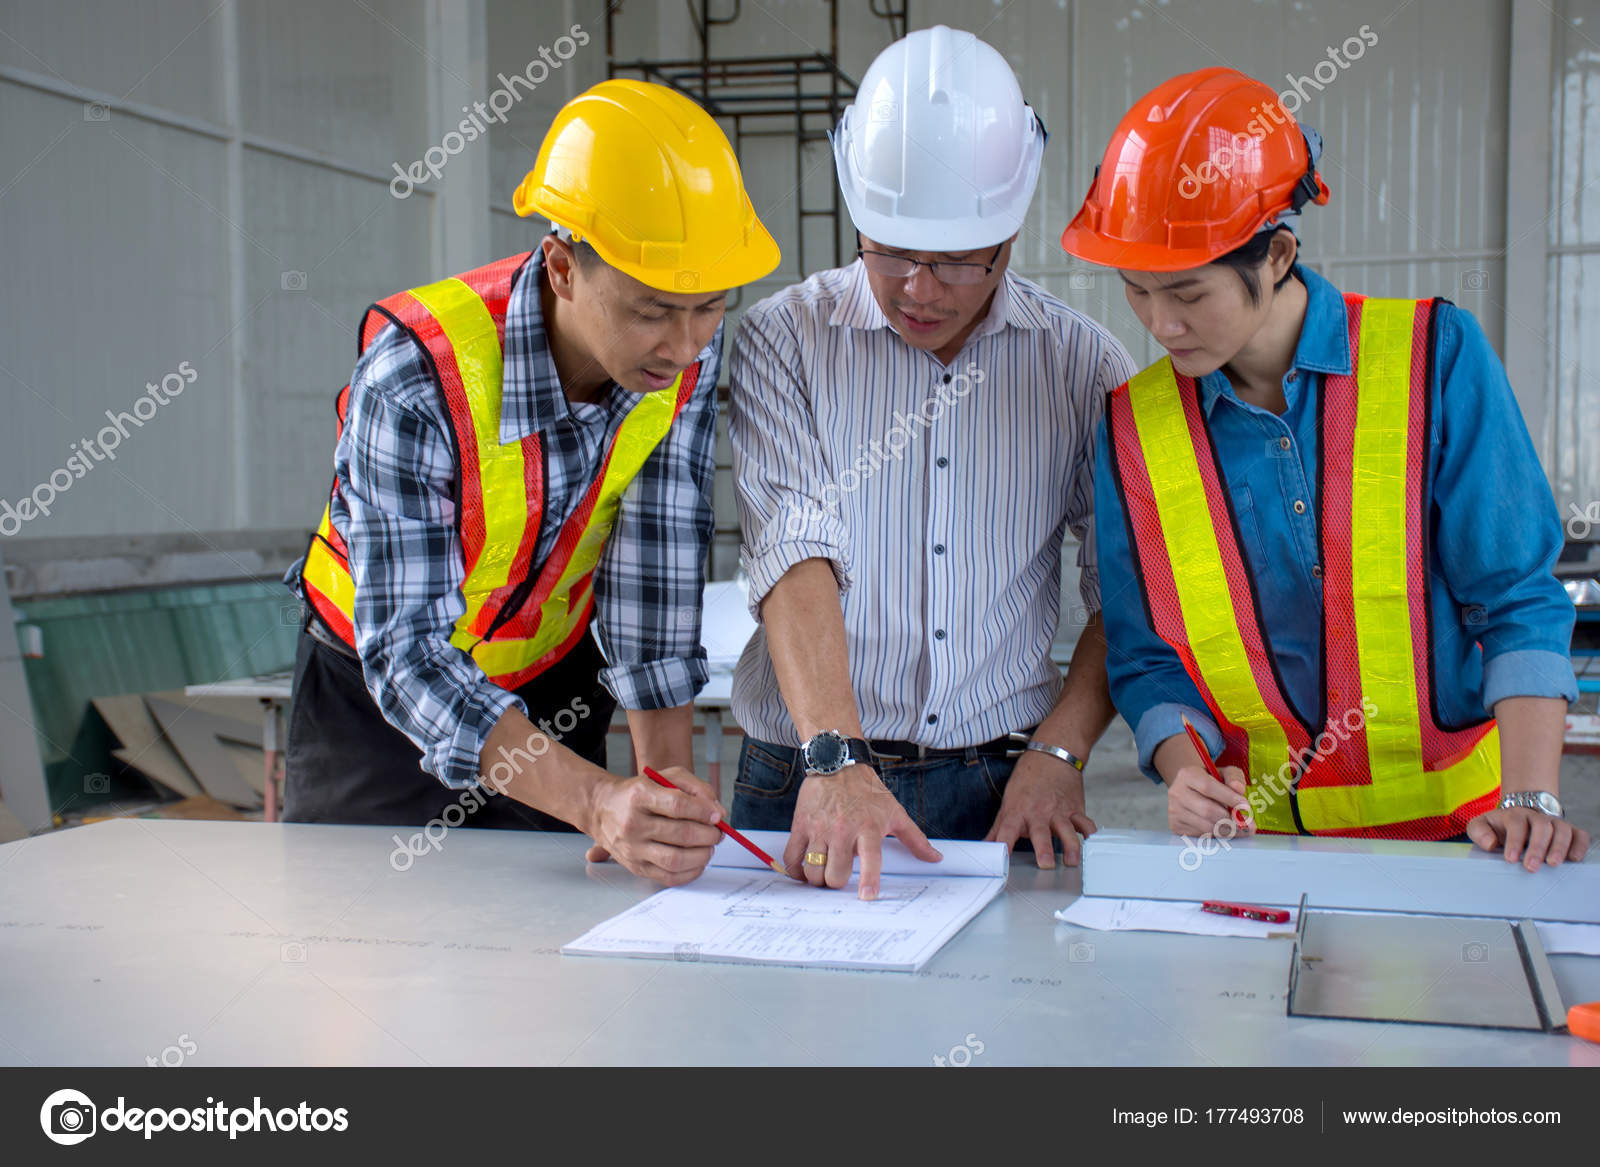Helmet: (506, 67, 788, 293), (1062, 66, 1348, 276), (819, 24, 1052, 259)
